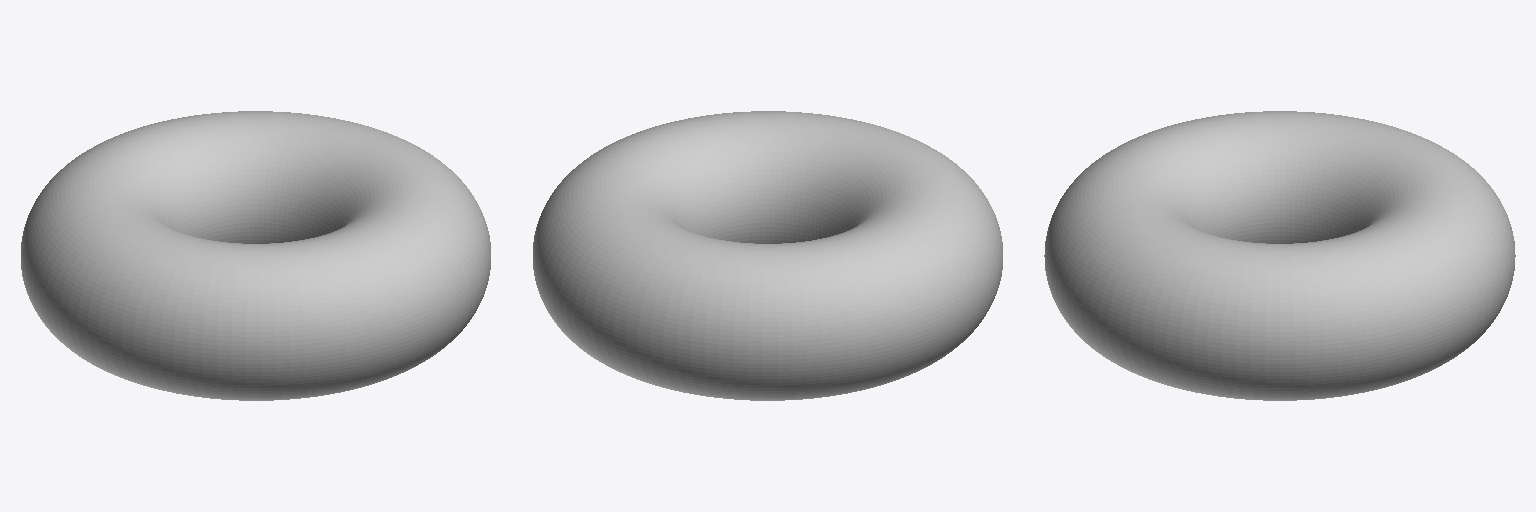
The model's file is donut_red_lambert_20000_tris_TRIANGLULATED.obj.
3 views of the same model, side by side, from view 1: azimuth 30°, elevation 25°; view 2: azimuth 150°, elevation 25°; view 3: azimuth 270°, elevation 25° (orthographic).
Parts seen in each view (by area): view 1: pTorus1; view 2: pTorus1; view 3: pTorus1.
Part boxes in pixels (bbox=[...]): pTorus1: bbox=[21, 111, 490, 400]; pTorus1: bbox=[533, 111, 1002, 400]; pTorus1: bbox=[1044, 111, 1515, 400].
Bounding box in the file's own units: 3 × 1 × 3.